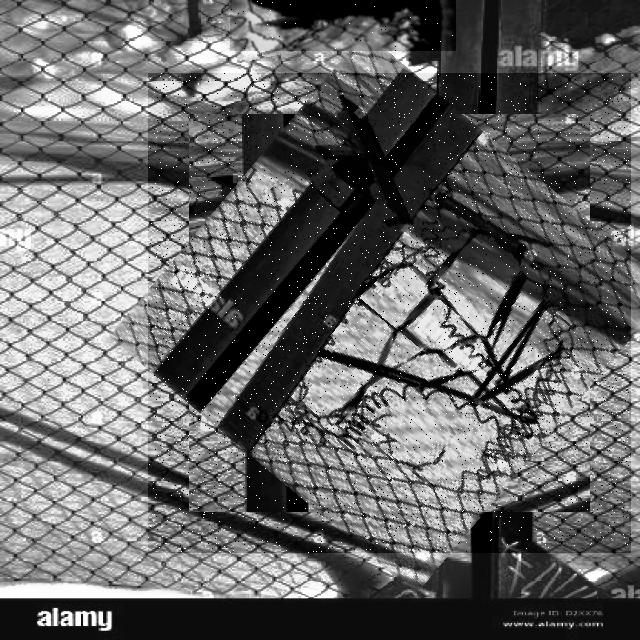anomaly-fence: (148, 73, 631, 553), (230, 0, 456, 51)
